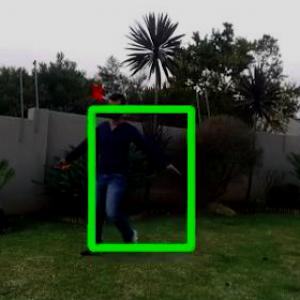land: (51, 93, 184, 256)
